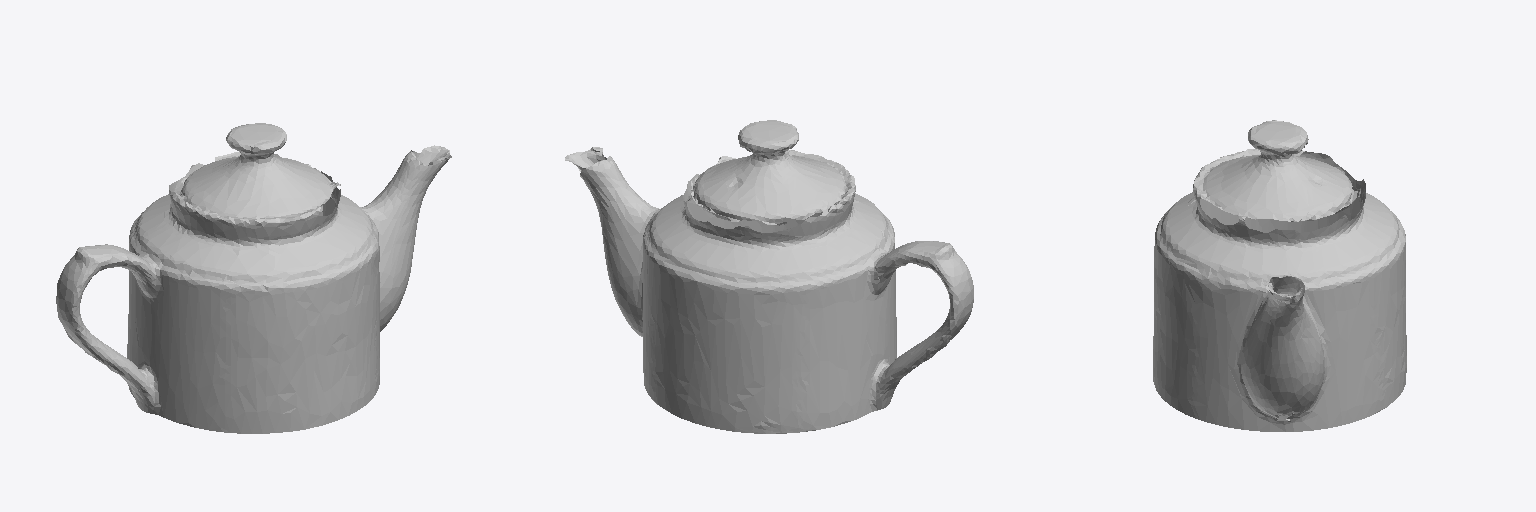
The model's file is teapot2.obj.
3 views of the same model, side by side, from view 1: azimuth 30°, elevation 25°; view 2: azimuth 150°, elevation 25°; view 3: azimuth 270°, elevation 25° (orthographic).
Size of the model in its own units: 144 by 86.99 by 80.37.